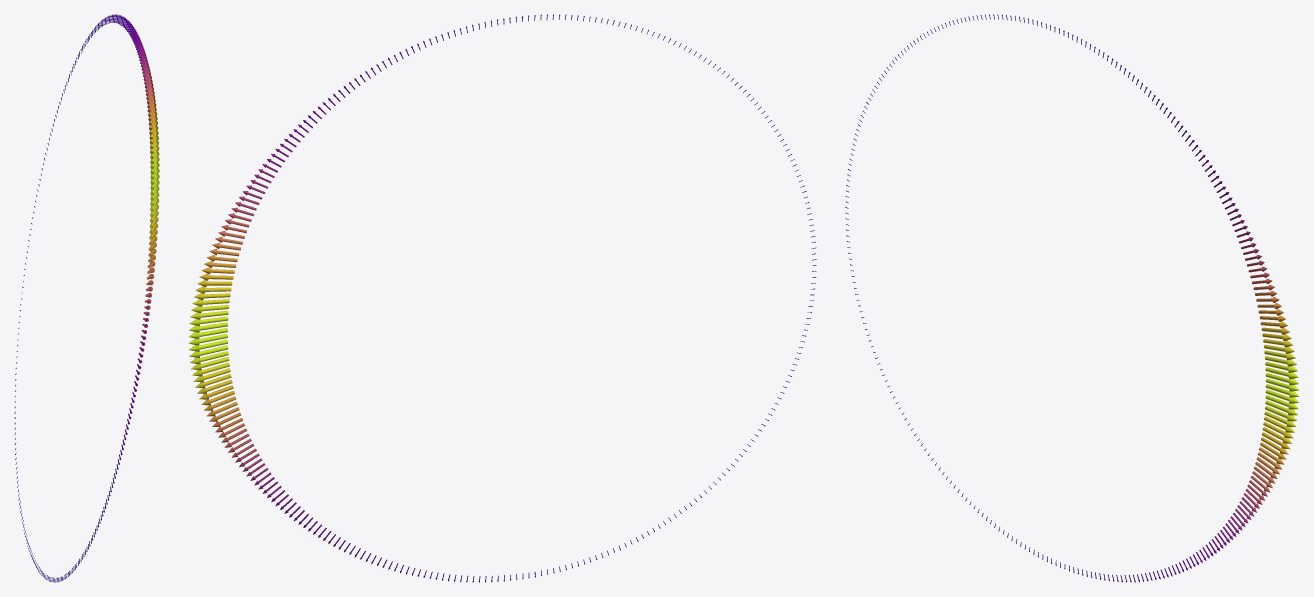
The model's file is coil_5_forces.gltf.
3 renders of one model, left to right at view 1: azimuth 30°, elevation 25°; view 2: azimuth 150°, elevation 25°; view 3: azimuth 270°, elevation 25°, orthographic. The views are drawn at different scales.
Visible parts, largest first — view 1: Renderer Node; view 2: Renderer Node; view 3: Renderer Node.
Boxes of the visible parts, <box> form: Renderer Node: <box>14,14,159,582</box>; Renderer Node: <box>188,14,816,582</box>; Renderer Node: <box>845,14,1299,582</box>.
Size of the model in its own units: 0.4466 by 0.6136 by 0.4675.
1 material, 1 textured.
